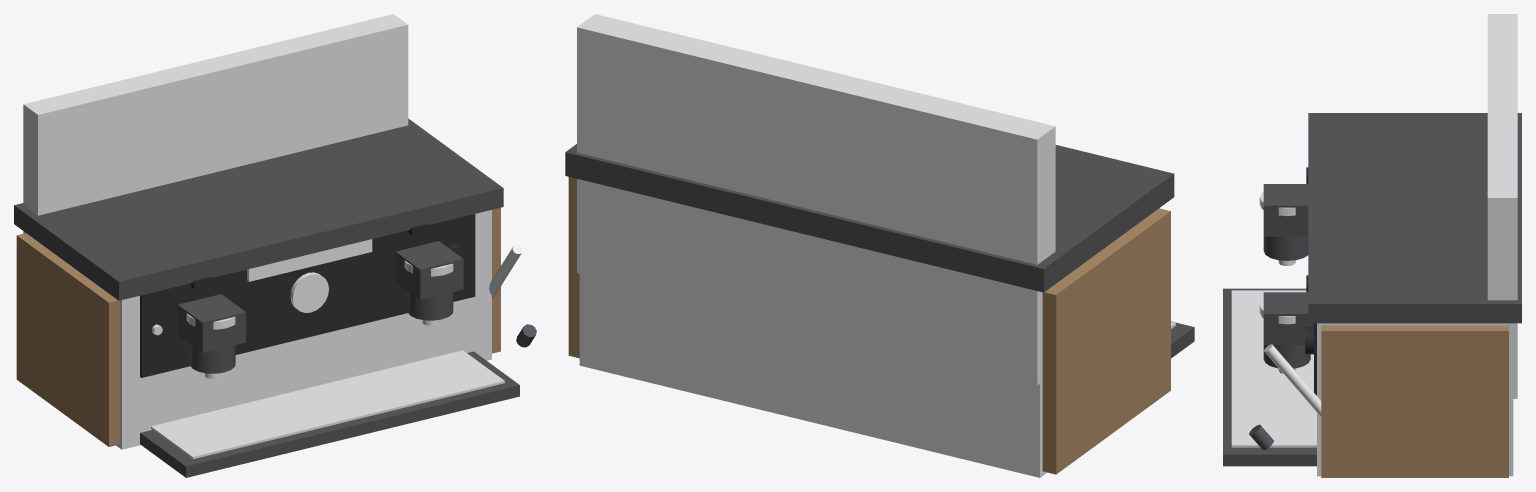
File: EspressoMachine.glb
3 renders of one model, left to right at view 1: azimuth 30°, elevation 25°; view 2: azimuth 150°, elevation 25°; view 3: azimuth 270°, elevation 25°, orthographic. The views are drawn at different scales.
Visible parts, largest first — view 1: EspressoMachine; view 2: EspressoMachine; view 3: EspressoMachine.
Part boxes in pixels (x1,y1,x2,y2): EspressoMachine: (14, 14, 536, 477); EspressoMachine: (565, 14, 1194, 477); EspressoMachine: (1223, 14, 1521, 477).
Bounding box in the file's own units: 1.09 × 0.72 × 0.7.
